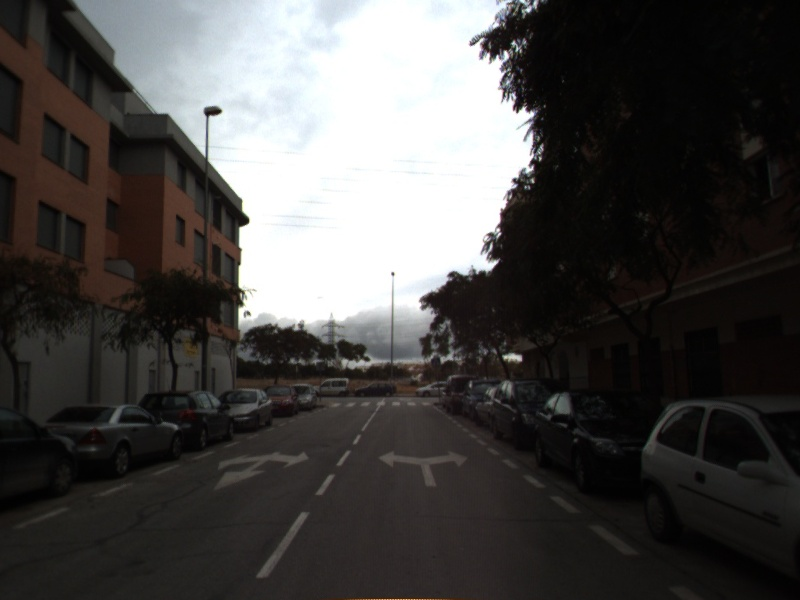LEFT_RIGHT: (376, 448, 471, 488)
